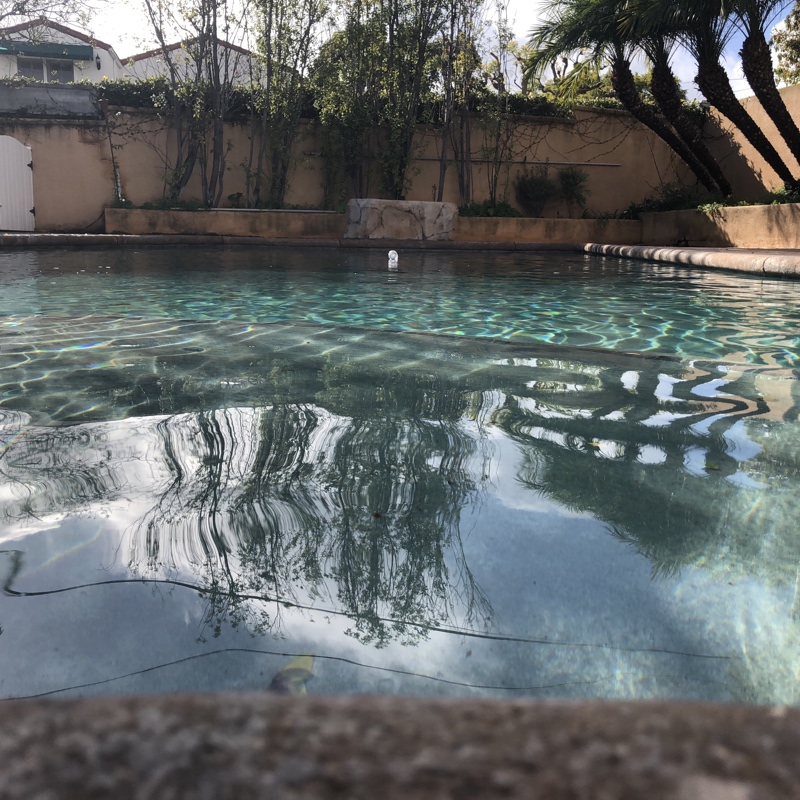Plastic Bottle: (382, 247, 400, 266)
